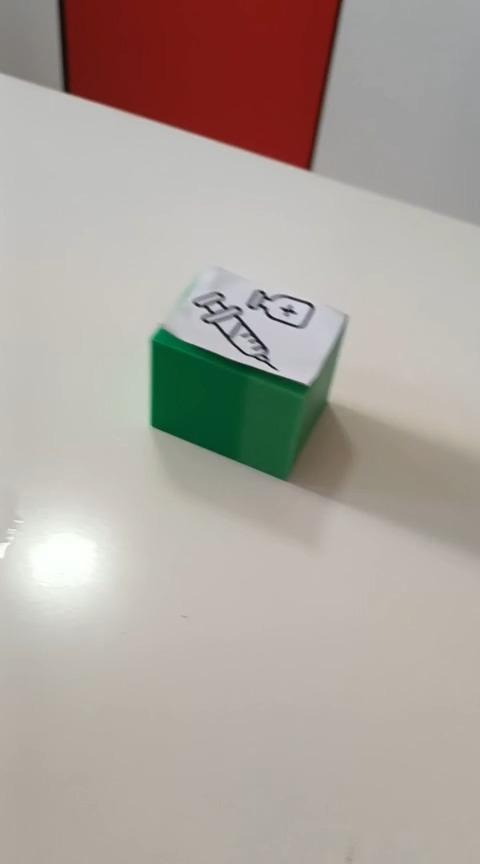antiseptic cream: (147, 262, 349, 480)
